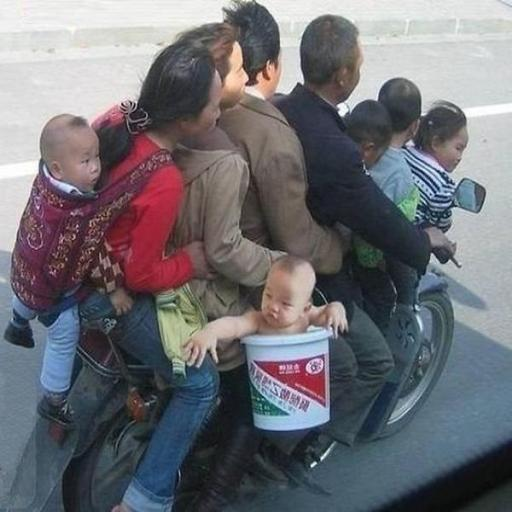overloading: (7, 4, 479, 506)
